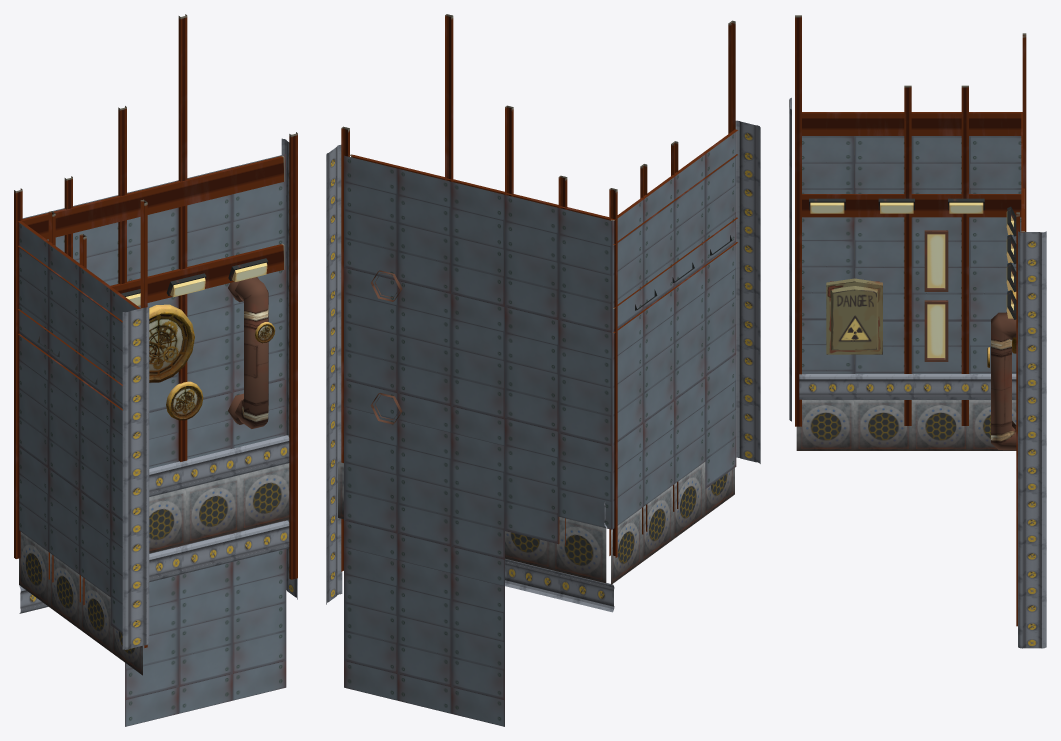
The model's file is normal1.fbx.
3 renders of one model, left to right at view 1: azimuth 30°, elevation 25°; view 2: azimuth 150°, elevation 25°; view 3: azimuth 270°, elevation 25°, orthographic. The views are drawn at different scales.
Parts seen in each view (by area): view 1: normal1; view 2: normal1; view 3: normal1.
Part boxes in pixels (x1,y1,x2,y2): normal1: (14,14,297,726); normal1: (326,14,760,726); normal1: (789,15,1046,648).
Bounding box in the file's own units: 2226 × 4962 × 1794.
